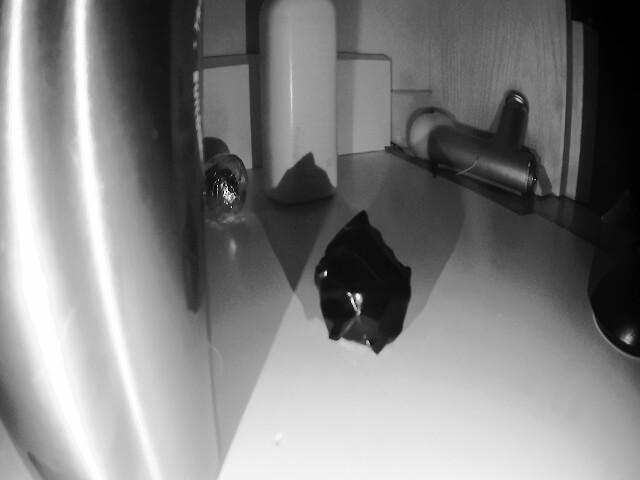black: (200, 151, 250, 231)
silver: (318, 219, 413, 353)
